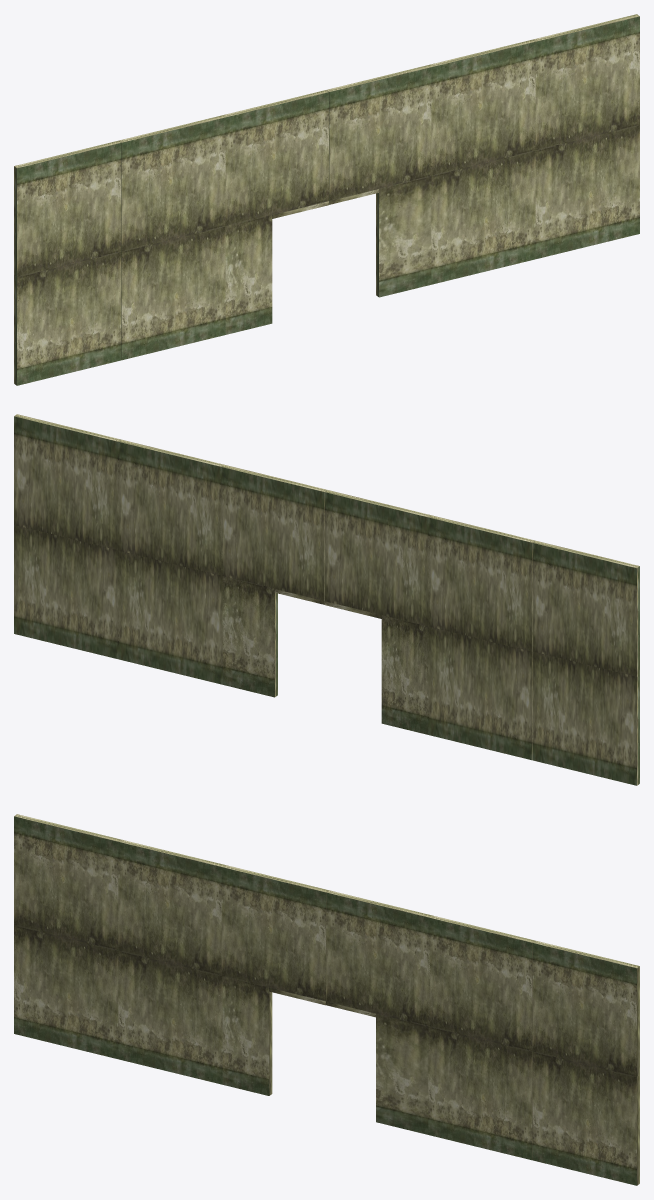
File: RoomWall3.fbx
3 renders of one model, top to bottom at view 1: azimuth 30°, elevation 25°; view 2: azimuth 150°, elevation 25°; view 3: azimuth 330°, elevation 25°, orthographic.
Parts seen in each view (by area): view 1: Cube; view 2: Cube; view 3: Cube.
Part boxes in pixels (bbox=[...]): Cube: bbox=[14, 14, 639, 385]; Cube: bbox=[14, 414, 639, 785]; Cube: bbox=[14, 814, 639, 1185].
Size of the model in its own units: 5979 by 1995 by 50.66.
10 materials, 10 textured.
